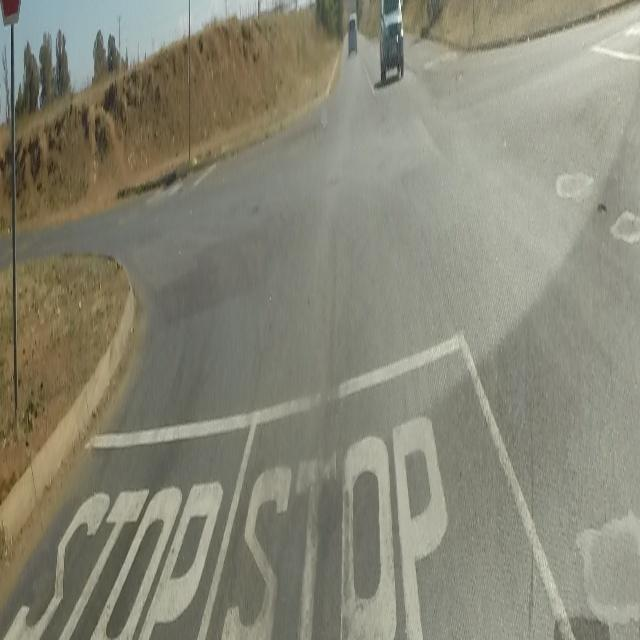pothole: (596, 202, 606, 215)
